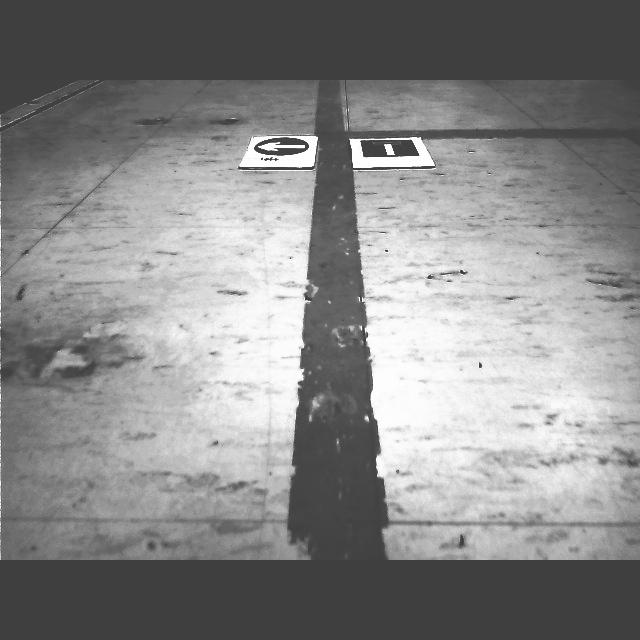DEAD END: (362, 139, 419, 157)
TURN LEFT: (253, 137, 310, 155)
